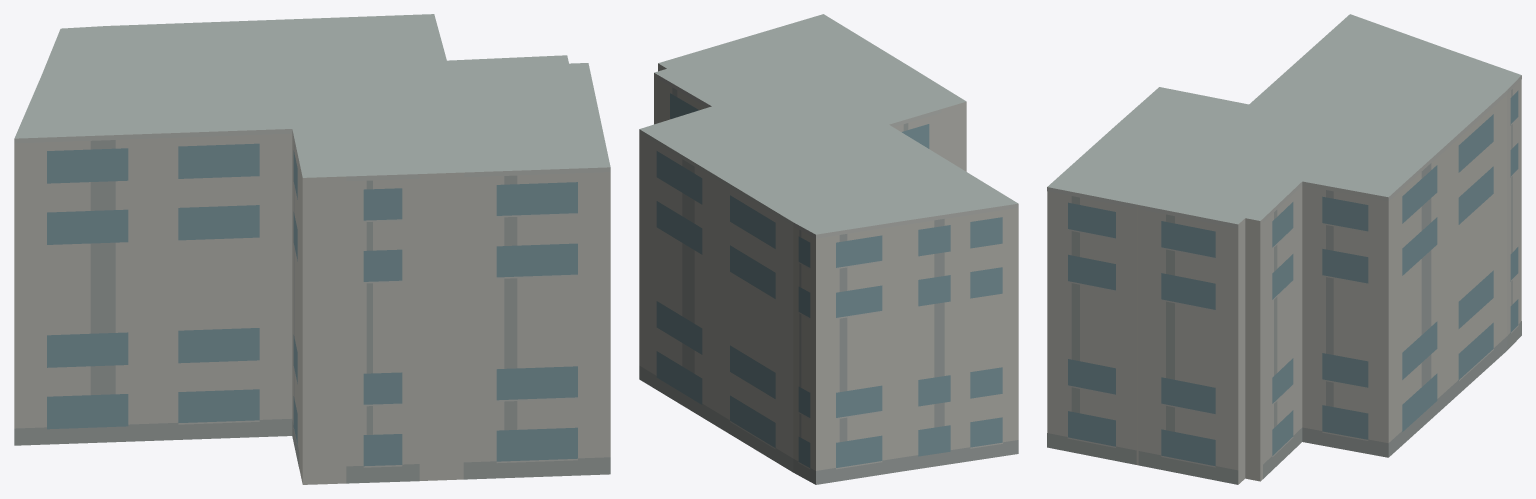
The model's file is survey-upis-32634682.glb.
3 views of the same model, side by side, from view 1: azimuth 30°, elevation 25°; view 2: azimuth 150°, elevation 25°; view 3: azimuth 270°, elevation 25° (orthographic). The views are drawn at different scales.
Visible parts, largest first — view 1: survey-upis-32634682.tmp; view 2: survey-upis-32634682.tmp; view 3: survey-upis-32634682.tmp.
Boxes of the visible parts, x1,y1,x2,y2 form: survey-upis-32634682.tmp: (14, 14, 610, 484); survey-upis-32634682.tmp: (639, 14, 1018, 484); survey-upis-32634682.tmp: (1047, 14, 1521, 484).
Bounding box in the file's own units: 26.43 × 15.25 × 25.19.
